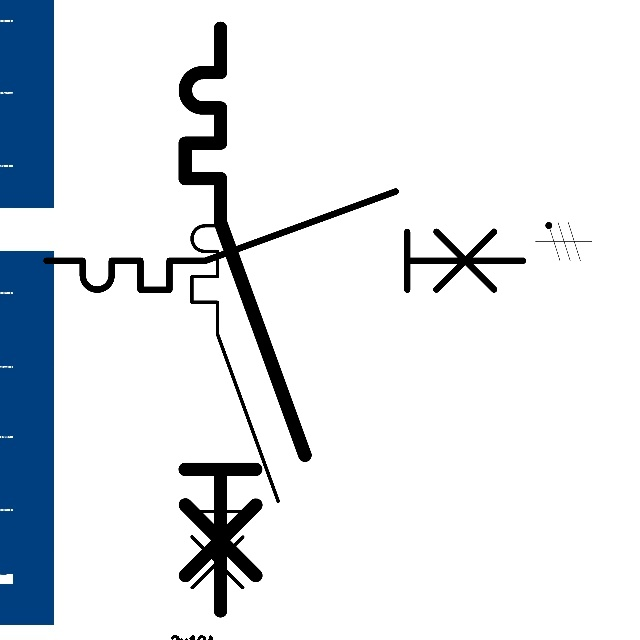interruptor_termomagnetico: (170, 13, 320, 626), (34, 179, 535, 302), (181, 183, 289, 624)
